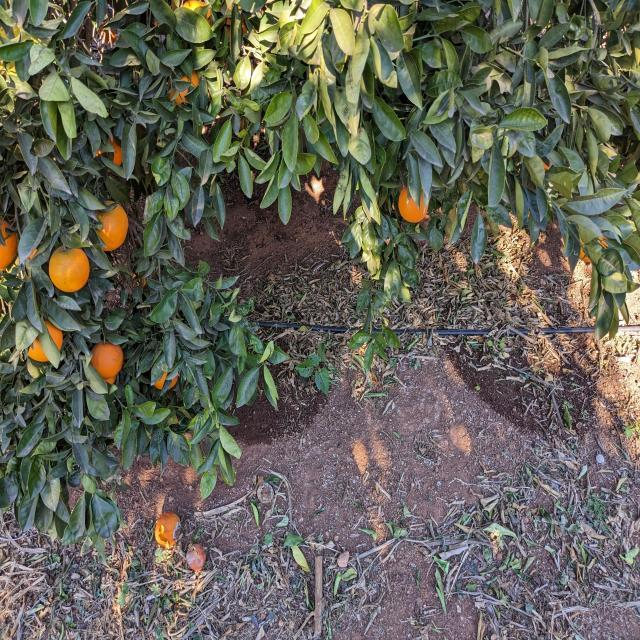Jeruk Sudah Matang: (48, 240, 90, 296), (23, 315, 66, 366), (92, 201, 130, 255), (94, 131, 130, 182), (396, 178, 434, 226), (574, 223, 612, 271), (167, 68, 204, 112), (174, 0, 216, 38), (85, 8, 121, 50), (0, 217, 24, 272), (149, 356, 180, 394), (92, 341, 122, 378), (92, 366, 120, 394)
